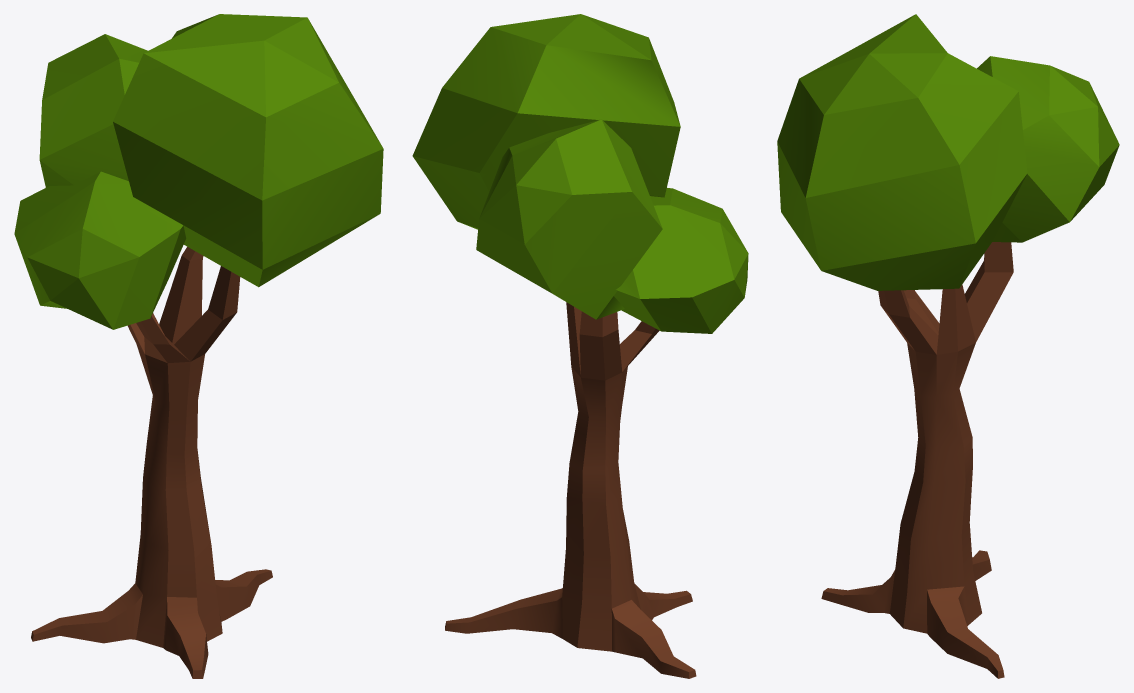
Rendered from Tree 2.fbx.
The picture shows the model from 3 angles, left to right: view 1: azimuth 30°, elevation 25°; view 2: azimuth 150°, elevation 25°; view 3: azimuth 270°, elevation 25°; orthographic projection. The views are drawn at different scales.
Parts seen in each view (by area): view 1: pasted__pasted__pasted__polySurface3, pasted__pCube1, pasted__pasted__pasted__pasted__polySurface3 (×2); view 2: pasted__pasted__pasted__pasted__polySurface3 (×2), pasted__pasted__pasted__polySurface3, pasted__pCube1; view 3: pasted__pasted__pasted__polySurface3, pasted__pCube1, pasted__pasted__pasted__pasted__polySurface3.
Boxes of the visible parts, bbox=[...] form: pasted__pasted__pasted__polySurface3: bbox=[113, 14, 383, 287]; pasted__pCube1: bbox=[31, 247, 272, 678]; pasted__pasted__pasted__pasted__polySurface3 (×2): bbox=[14, 34, 186, 329]; pasted__pasted__pasted__pasted__polySurface3 (×2): bbox=[476, 119, 748, 333]; pasted__pasted__pasted__polySurface3: bbox=[412, 14, 680, 229]; pasted__pCube1: bbox=[445, 302, 696, 678]; pasted__pasted__pasted__polySurface3: bbox=[777, 14, 1027, 290]; pasted__pCube1: bbox=[821, 242, 1013, 678]; pasted__pasted__pasted__pasted__polySurface3: bbox=[977, 56, 1119, 242].
Bounding box in the file's own units: 17.46 × 31.73 × 16.7.
